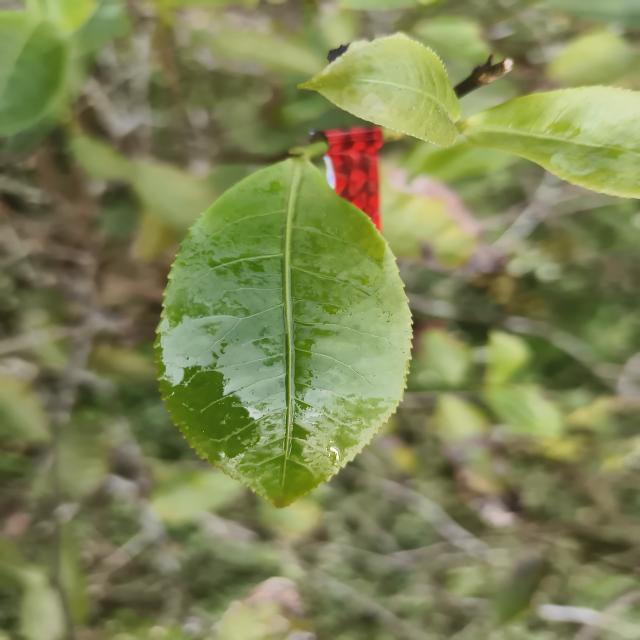Leaf: (155, 159, 411, 507), (459, 87, 640, 198), (299, 34, 459, 147), (0, 11, 69, 136), (547, 30, 633, 86), (483, 385, 563, 438), (417, 328, 470, 387)
